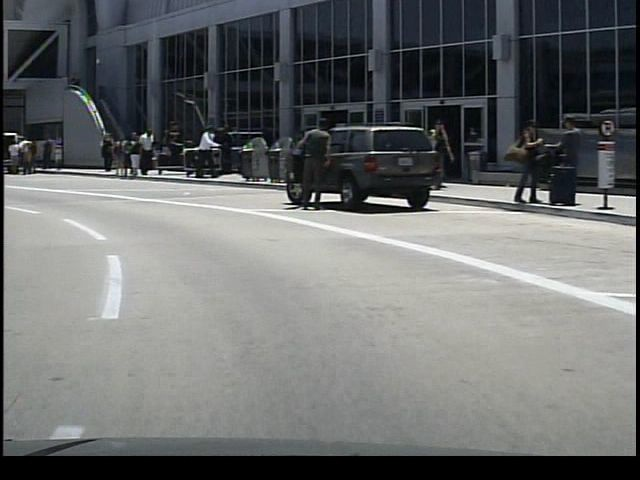person: (292, 117, 330, 219), (546, 113, 583, 204), (506, 116, 541, 205), (423, 117, 457, 194), (193, 121, 217, 182), (34, 130, 56, 177), (121, 131, 141, 180), (92, 130, 111, 175), (137, 126, 153, 179), (16, 132, 35, 176), (2, 138, 20, 178)
